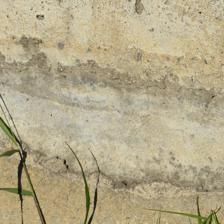Crack: (1, 63, 220, 136)
